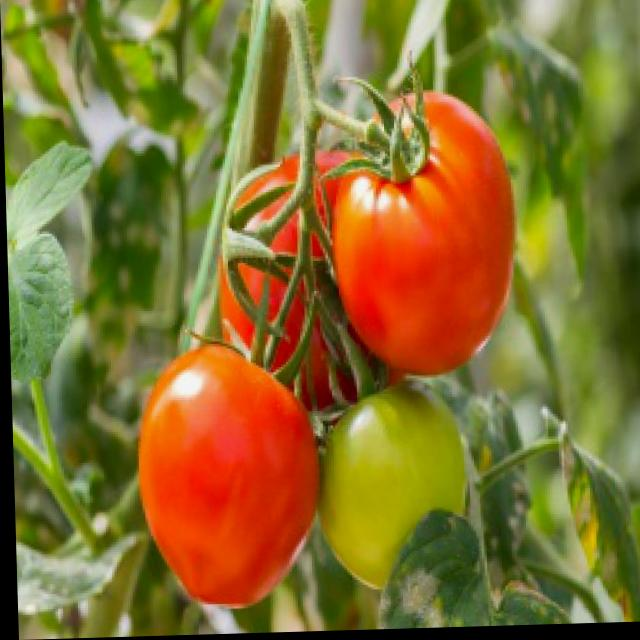tomato: (327, 93, 519, 382), (133, 348, 319, 614)
